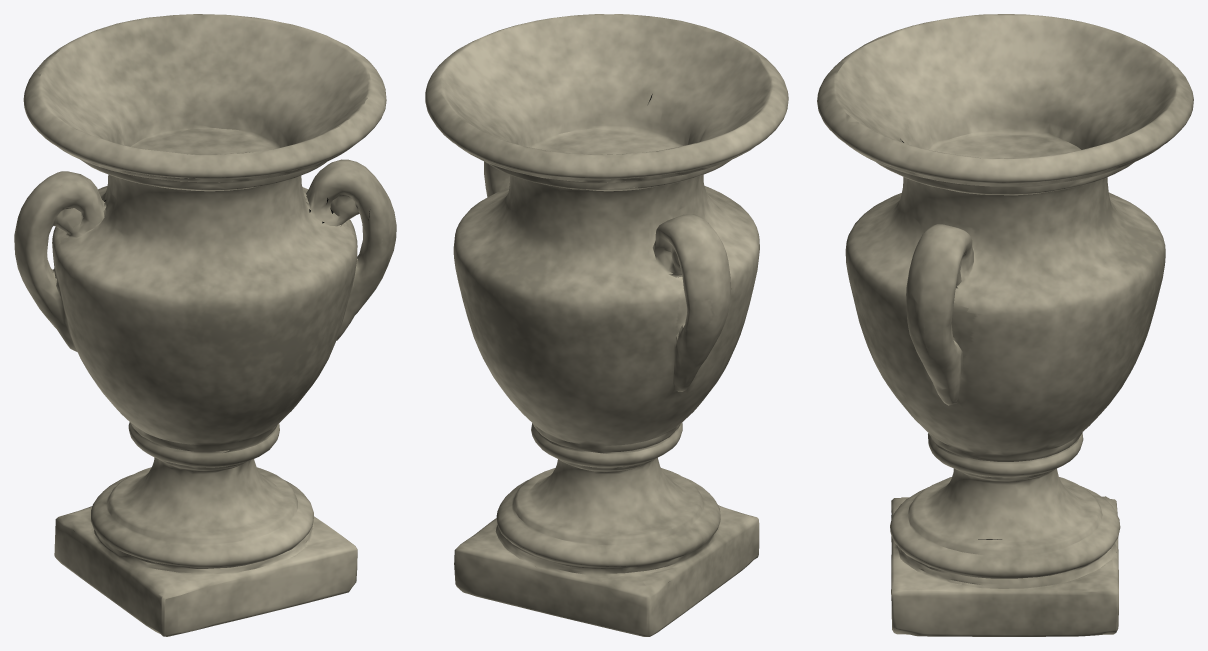
The model's file is tall-urn-v001.glb.
3 views of the same model, side by side, from view 1: azimuth 30°, elevation 25°; view 2: azimuth 150°, elevation 25°; view 3: azimuth 270°, elevation 25° (orthographic). The views are drawn at different scales.
Parts seen in each view (by area): view 1: tall-urn; view 2: tall-urn; view 3: tall-urn.
Boxes of the visible parts, x1,y1,x2,y2 form: tall-urn: (14,14,396,636); tall-urn: (425,14,788,636); tall-urn: (817,14,1193,636).
Bounding box in the file's own units: 0.6062 × 0.9002 × 0.6102.
1 material, 1 textured.
